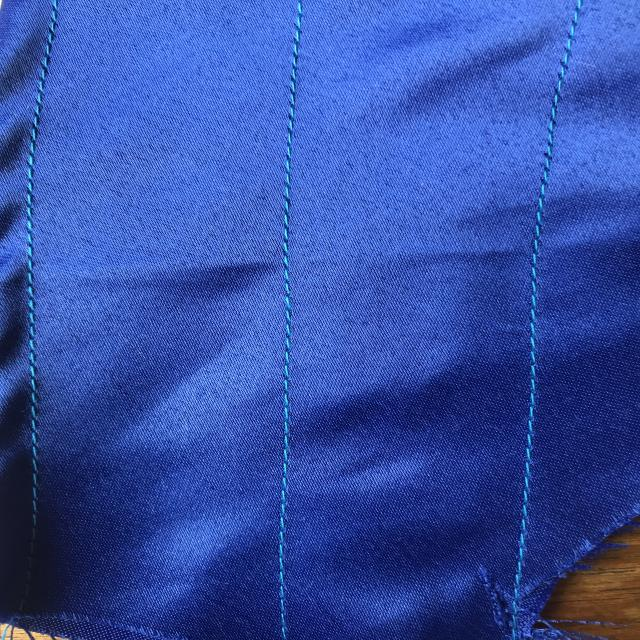good: (260, 132, 308, 306)
